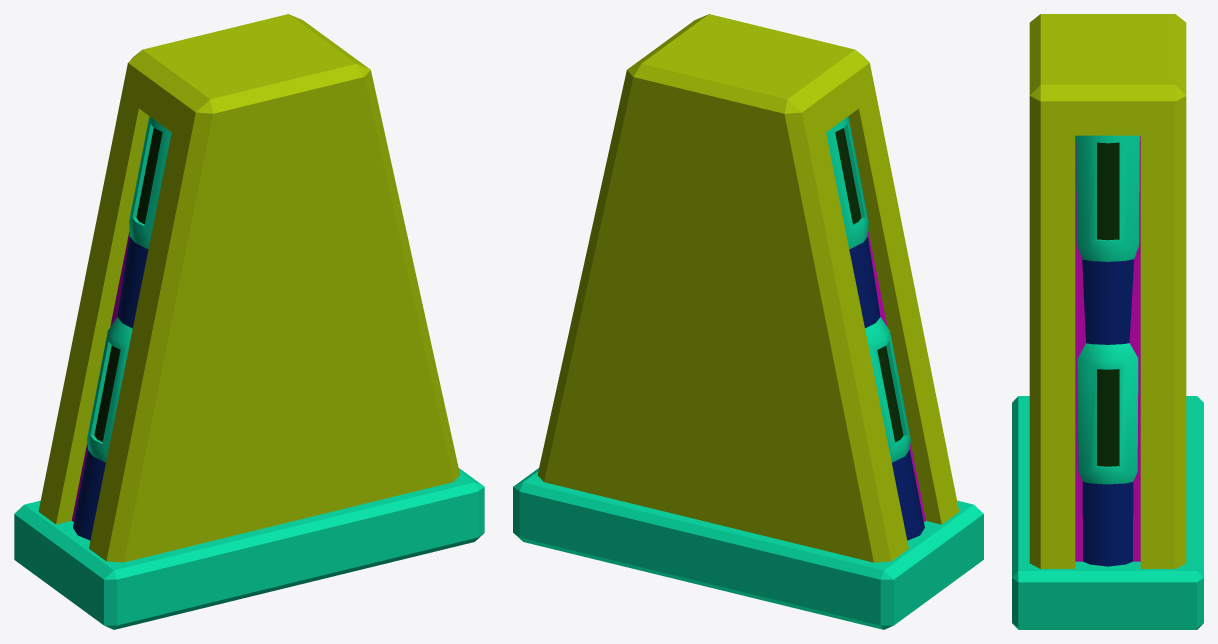
Rendered from OBJ_Pilone_cone.fbx.
3 renders of one model, left to right at view 1: azimuth 30°, elevation 25°; view 2: azimuth 150°, elevation 25°; view 3: azimuth 270°, elevation 25°, orthographic.
Visible parts, largest first — view 1: OBJ_Pilone_cone; view 2: OBJ_Pilone_cone; view 3: OBJ_Pilone_cone.
Part boxes in pixels (box(x1,y1,x2,y2)): OBJ_Pilone_cone: box(14, 14, 484, 629); OBJ_Pilone_cone: box(513, 14, 983, 629); OBJ_Pilone_cone: box(1012, 14, 1203, 629).
Size of the model in its own units: 19.95 by 24.85 by 8.76.
